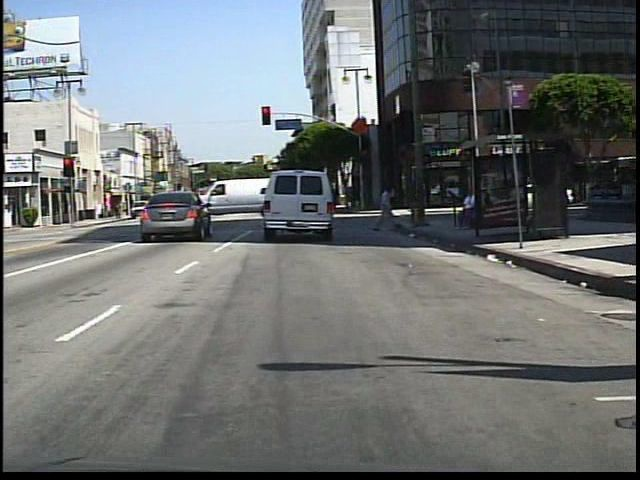person: (374, 180, 400, 235), (456, 187, 479, 234), (145, 192, 159, 218)
